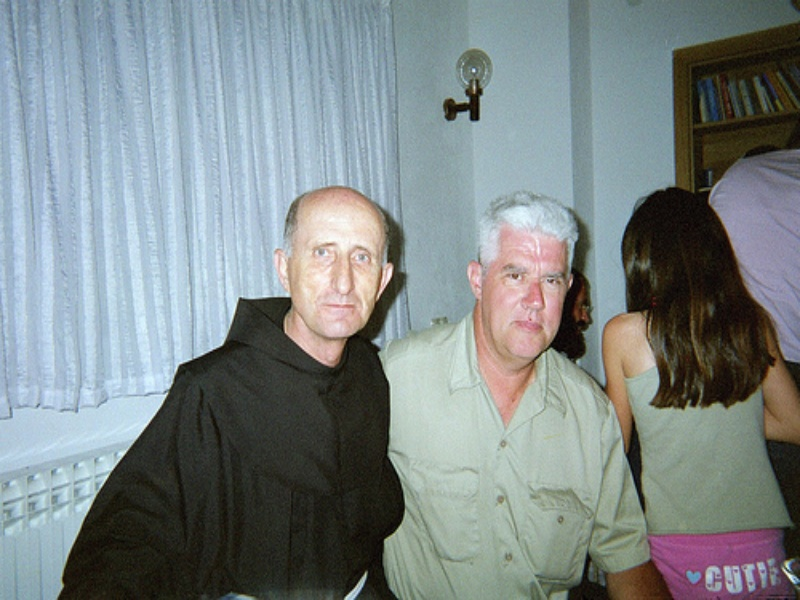person: (58, 187, 406, 600), (379, 192, 673, 600), (603, 187, 800, 600)
